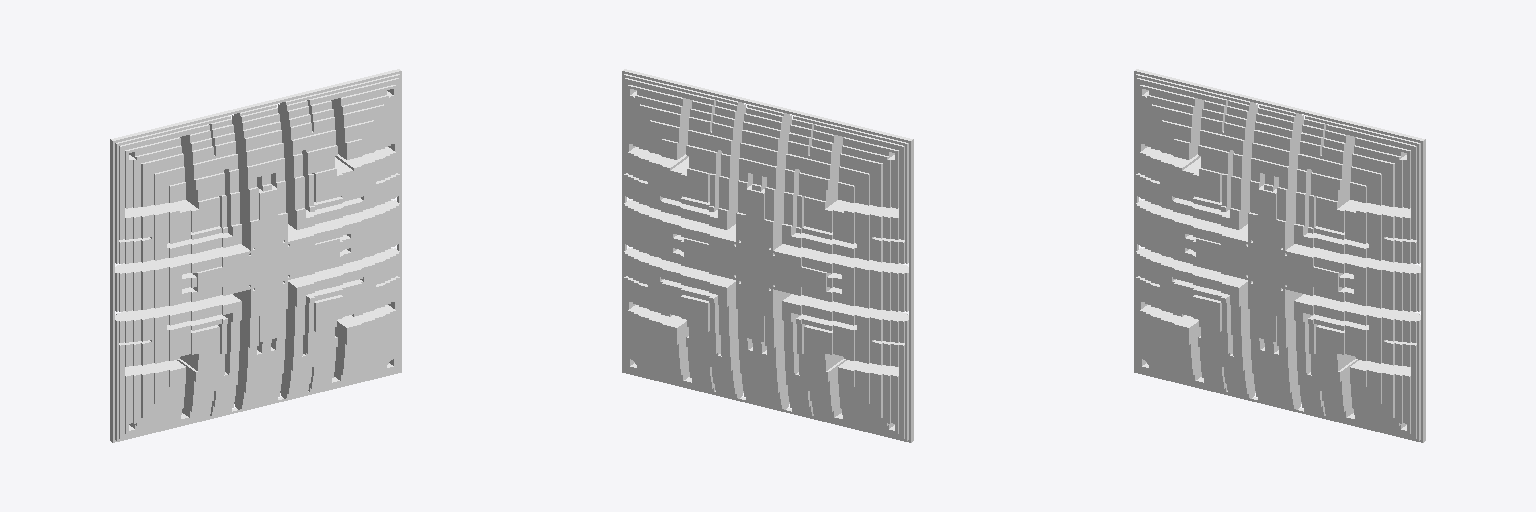
Rendered from platformtype2.obj.
3 renders of one model, left to right at view 1: azimuth 30°, elevation 25°; view 2: azimuth 150°, elevation 25°; view 3: azimuth 330°, elevation 25°, orthographic.
Visible parts, largest first — view 1: object 1; view 2: object 1; view 3: object 1.
Part boxes in pixels (bbox=[...]): object 1: bbox=[110, 69, 401, 442]; object 1: bbox=[622, 69, 913, 442]; object 1: bbox=[1134, 69, 1425, 442].
Size of the model in its own units: 12.6 by 12.6 by 2.